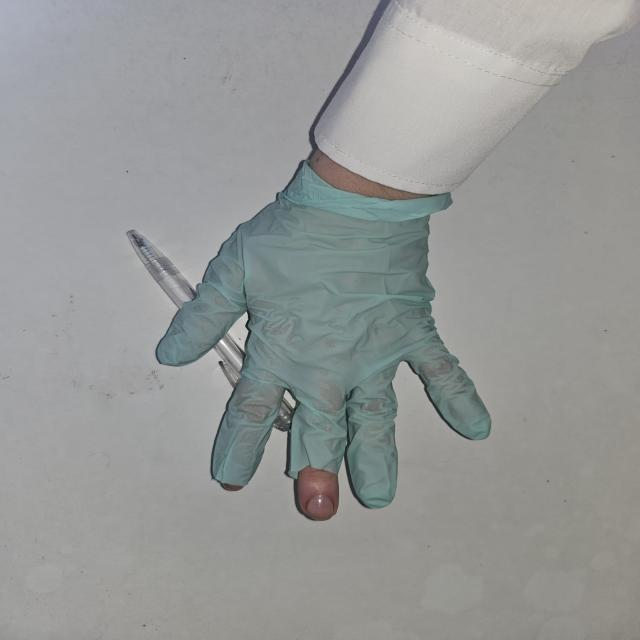gloves_damaged: (155, 160, 496, 520)
